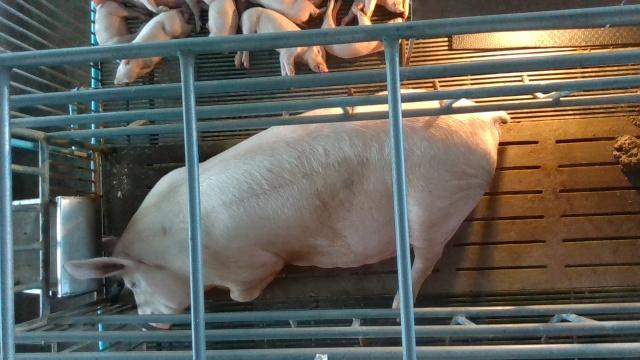piglet: (235, 7, 329, 76), (114, 9, 193, 84), (323, 0, 403, 59), (92, 0, 152, 47), (247, 0, 321, 28), (203, 0, 239, 37)
sow-sleep: (63, 88, 511, 331)
